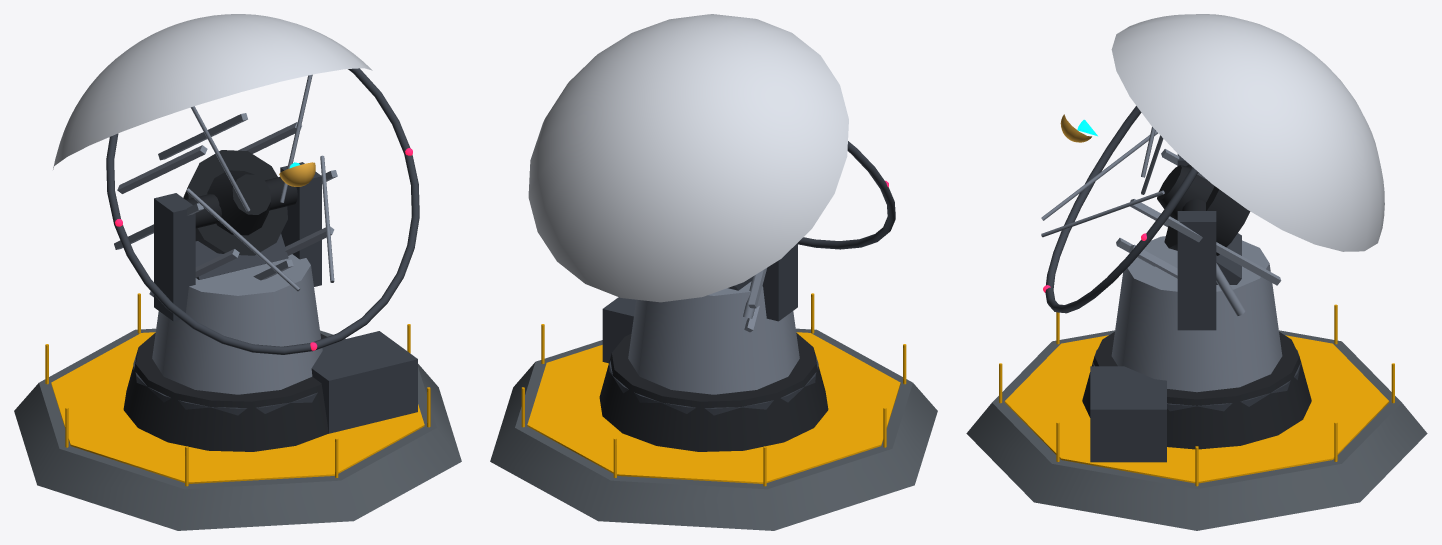
Rendered from ground_tracking_dish.glb.
The picture shows the model from 3 angles, left to right: view 1: azimuth 30°, elevation 25°; view 2: azimuth 150°, elevation 25°; view 3: azimuth 270°, elevation 25°; orthographic projection.
Visible parts, largest first — view 1: Ground_Tracking_Radar_Dish; view 2: Ground_Tracking_Radar_Dish; view 3: Ground_Tracking_Radar_Dish.
Boxes of the visible parts, x1,y1,x2,y2 form: Ground_Tracking_Radar_Dish: (14,14,461,530); Ground_Tracking_Radar_Dish: (490,14,937,530); Ground_Tracking_Radar_Dish: (966,14,1427,530).
Size of the model in its own units: 5.4 by 5.2 by 5.4.
